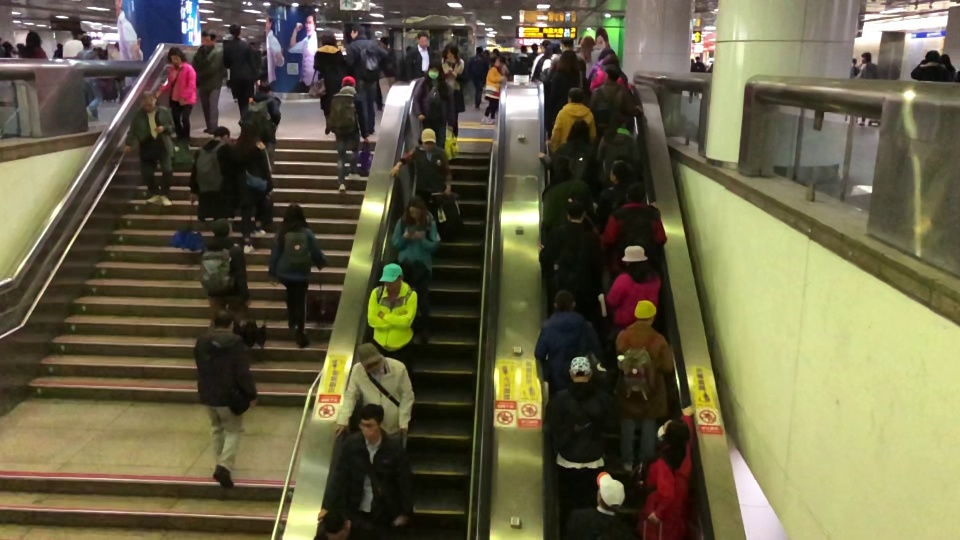person_head: (595, 474, 629, 515), (358, 402, 385, 442), (658, 417, 691, 448), (356, 341, 385, 374), (322, 508, 350, 539), (280, 201, 306, 228), (621, 244, 648, 270), (568, 355, 593, 383), (380, 262, 403, 291), (566, 118, 590, 143), (406, 195, 427, 222), (633, 298, 657, 321), (551, 155, 572, 181), (553, 289, 576, 312), (609, 162, 632, 184), (565, 200, 585, 224), (558, 50, 578, 72), (239, 119, 257, 142), (626, 182, 646, 202), (420, 127, 437, 150), (211, 217, 231, 236), (214, 308, 233, 328), (425, 60, 444, 79), (166, 44, 184, 62), (211, 125, 230, 142), (565, 86, 584, 103), (610, 110, 627, 128), (200, 28, 216, 46), (443, 43, 459, 61), (141, 90, 155, 110), (320, 30, 337, 46), (25, 32, 42, 47), (605, 64, 620, 81), (227, 23, 242, 39), (924, 49, 940, 64), (598, 46, 615, 60), (350, 24, 365, 39), (580, 36, 595, 51), (340, 75, 356, 89), (602, 54, 619, 66), (259, 82, 272, 97), (560, 38, 575, 51), (416, 31, 428, 47), (69, 27, 84, 39), (81, 34, 91, 51), (860, 51, 872, 63), (490, 55, 501, 66), (379, 36, 388, 49), (941, 53, 950, 66), (549, 45, 560, 55), (518, 44, 527, 53), (542, 40, 549, 51), (530, 44, 538, 53), (54, 42, 62, 50), (476, 46, 482, 55), (851, 57, 857, 64), (695, 55, 699, 62)
person_vbox: (317, 402, 417, 533), (192, 308, 259, 490), (613, 299, 676, 474), (541, 356, 606, 508), (268, 202, 328, 349), (333, 341, 416, 442), (637, 404, 697, 540), (390, 195, 440, 346), (389, 128, 454, 243), (533, 289, 603, 389), (535, 199, 604, 296), (123, 89, 175, 207), (596, 182, 668, 258), (199, 217, 250, 323), (324, 75, 369, 192), (365, 263, 418, 360), (235, 118, 273, 253), (341, 24, 387, 134), (153, 45, 198, 153), (187, 126, 237, 222), (604, 244, 661, 328), (594, 160, 659, 230), (567, 471, 632, 540), (542, 155, 595, 235), (412, 60, 456, 149), (538, 118, 597, 183), (191, 28, 227, 134), (589, 64, 644, 131), (222, 23, 260, 116), (545, 87, 597, 152), (544, 49, 591, 119), (596, 110, 641, 177), (312, 30, 345, 118), (238, 81, 282, 143), (76, 34, 104, 122), (550, 36, 588, 79), (480, 54, 503, 125), (442, 43, 465, 114), (589, 54, 631, 92), (859, 51, 877, 131), (909, 50, 950, 83), (468, 46, 487, 110), (407, 30, 433, 74), (577, 36, 601, 76), (588, 46, 617, 75), (19, 31, 48, 59), (530, 40, 551, 77), (62, 26, 83, 60), (541, 43, 561, 78), (694, 56, 706, 97), (518, 45, 528, 65), (528, 44, 539, 62), (850, 57, 859, 78), (53, 41, 62, 58)
